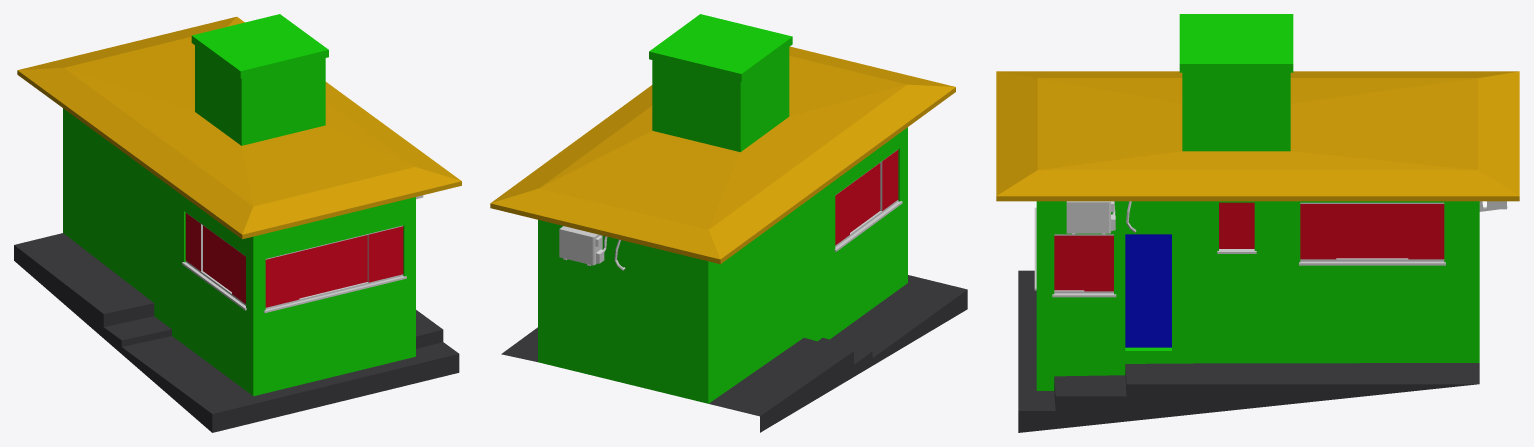
File: central de seguranca-orla1.fbx
The picture shows the model from 3 angles, left to right: view 1: azimuth 30°, elevation 25°; view 2: azimuth 150°, elevation 25°; view 3: azimuth 270°, elevation 25°; orthographic projection. The views are drawn at different scales.
Visible parts, largest first — view 1: Cubo.001; view 2: Cubo.001; view 3: Cubo.001.
Part boxes in pixels (x1,y1,x2,y2): Cubo.001: (14, 14, 461, 432); Cubo.001: (490, 14, 967, 432); Cubo.001: (996, 14, 1519, 432).
Bounding box in the file's own units: 406 × 450 × 639.
